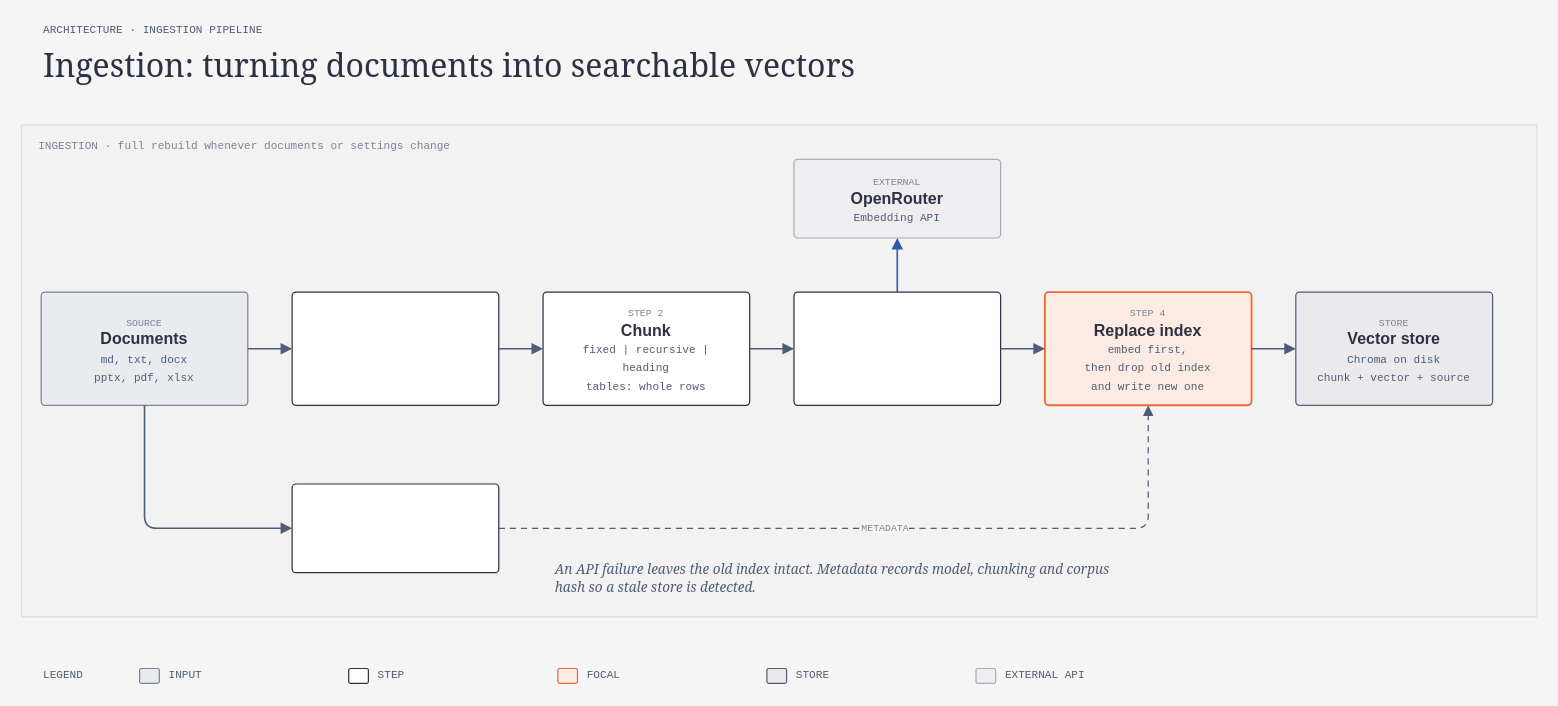
The diagram is 1558 pixels wide and 706 high, and some of its shapes have lost their labels. The centre of each missing label's shape, as x and y in pixels:
PARALLEL Corpus fingerprint hash of document content: [395,528]
STEP 1 Load & normalize split by page, slide, sheet Unicode NFC: [395,348]
STEP 3 Embed embedding model batched: [897,348]
